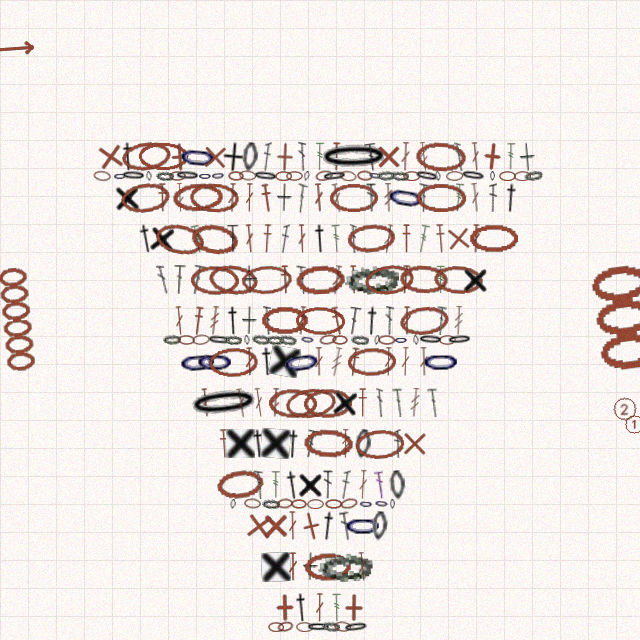chain: (187, 385, 261, 421), (318, 142, 390, 172), (153, 220, 206, 258), (284, 385, 337, 421), (189, 221, 241, 257), (119, 180, 172, 215), (344, 263, 400, 296), (207, 262, 259, 297), (363, 262, 415, 297), (120, 139, 172, 174), (215, 467, 266, 502), (398, 304, 450, 338), (318, 551, 373, 583), (346, 222, 397, 255), (354, 428, 406, 460), (241, 264, 292, 296), (433, 264, 484, 296), (172, 182, 223, 213), (189, 182, 240, 213), (415, 141, 466, 172), (303, 428, 353, 459), (295, 264, 345, 295), (399, 264, 449, 295), (384, 180, 428, 215), (303, 388, 353, 418), (208, 347, 258, 377), (295, 306, 345, 336), (190, 265, 240, 295), (268, 388, 317, 418), (347, 347, 396, 377), (280, 345, 323, 379), (329, 183, 379, 212), (416, 183, 466, 212), (138, 142, 188, 171), (304, 552, 352, 582), (469, 224, 518, 253), (261, 306, 309, 335), (177, 346, 219, 378), (177, 141, 219, 173), (343, 511, 383, 540), (195, 347, 235, 376), (421, 347, 461, 376), (354, 429, 372, 459), (241, 142, 259, 172), (371, 511, 388, 541), (389, 470, 406, 500), (414, 169, 440, 183), (460, 169, 486, 182), (343, 621, 369, 633), (207, 334, 232, 346), (253, 170, 278, 182), (322, 170, 347, 182), (418, 334, 443, 345), (447, 334, 472, 345), (121, 170, 146, 181), (175, 170, 200, 181), (306, 622, 331, 632), (524, 169, 543, 182), (340, 497, 358, 510), (319, 333, 337, 346), (315, 169, 333, 182), (278, 334, 297, 346), (277, 620, 294, 633), (93, 170, 111, 182), (339, 170, 357, 182), (322, 621, 340, 632), (163, 334, 181, 345), (192, 334, 210, 345), (252, 334, 270, 345), (377, 170, 395, 181), (334, 621, 351, 632), (244, 498, 261, 509), (239, 170, 256, 181), (262, 499, 280, 509), (224, 335, 242, 345), (266, 335, 284, 345), (351, 335, 369, 345), (156, 171, 174, 181), (391, 171, 409, 181), (277, 498, 293, 509), (357, 170, 373, 181), (296, 622, 313, 632), (307, 499, 324, 509), (325, 499, 342, 509), (178, 335, 195, 345), (378, 335, 395, 345), (439, 335, 456, 345), (169, 171, 186, 181), (275, 171, 292, 181), (286, 171, 303, 181), (403, 171, 420, 181), (446, 171, 463, 181), (499, 171, 516, 181), (514, 171, 531, 181), (374, 498, 389, 509), (300, 334, 315, 345), (368, 170, 383, 181), (268, 622, 284, 632), (291, 499, 307, 509), (332, 335, 348, 345), (228, 171, 244, 181), (211, 170, 225, 181), (359, 499, 373, 509), (394, 335, 408, 345), (113, 171, 127, 181), (198, 171, 212, 181), (303, 171, 310, 181), (230, 499, 236, 509), (244, 335, 250, 345), (374, 335, 380, 345), (413, 335, 419, 345), (146, 171, 152, 181), (435, 171, 441, 181), (390, 499, 395, 509), (490, 171, 495, 181)
double: (302, 429, 320, 459), (189, 265, 206, 295), (346, 306, 362, 336), (364, 142, 379, 172), (339, 511, 353, 541), (234, 388, 248, 418), (330, 265, 344, 295), (330, 183, 344, 213), (382, 224, 395, 254), (295, 183, 308, 213), (434, 306, 447, 335), (156, 265, 169, 294), (173, 265, 186, 294), (469, 183, 482, 212), (253, 470, 265, 499), (374, 470, 386, 499), (253, 388, 265, 417), (392, 388, 404, 417), (427, 388, 439, 417), (296, 306, 308, 335), (296, 265, 308, 294), (227, 224, 239, 253), (313, 183, 325, 212), (357, 552, 368, 581), (340, 470, 351, 499), (200, 388, 211, 417), (174, 306, 185, 335), (348, 265, 359, 294), (244, 224, 255, 253), (227, 183, 238, 212), (366, 183, 377, 212), (418, 183, 429, 212), (400, 142, 411, 171), (470, 142, 481, 171), (288, 552, 298, 581), (323, 470, 333, 499), (358, 470, 368, 499), (314, 347, 324, 376), (419, 347, 429, 376), (384, 306, 394, 335), (402, 306, 412, 335), (280, 224, 290, 253), (297, 224, 307, 253), (471, 224, 481, 253), (262, 142, 272, 171), (454, 142, 464, 171), (315, 593, 324, 622), (288, 511, 297, 540), (245, 347, 254, 376), (384, 347, 393, 376), (401, 347, 410, 376), (245, 183, 254, 212), (394, 429, 402, 458), (376, 388, 384, 417), (263, 306, 271, 335), (489, 183, 497, 212), (298, 142, 306, 171), (350, 224, 357, 253)
enseble_chain: (584, 261, 640, 379), (0, 266, 38, 374)
half_double: (136, 223, 156, 254), (318, 511, 338, 541), (283, 470, 302, 500), (284, 429, 302, 459), (363, 306, 381, 336), (502, 183, 520, 213), (293, 593, 310, 622), (250, 429, 267, 458), (329, 306, 345, 336), (259, 347, 275, 376), (225, 306, 241, 335), (312, 224, 328, 253), (120, 142, 136, 171), (259, 183, 274, 213), (347, 347, 361, 377), (191, 306, 205, 336), (399, 265, 412, 294), (434, 224, 447, 253), (218, 429, 230, 458), (279, 265, 291, 294), (261, 224, 273, 253), (357, 388, 368, 417), (401, 224, 412, 253), (157, 183, 168, 212), (331, 142, 342, 171)
noise: (611, 395, 638, 422), (0, 40, 36, 57), (623, 413, 640, 436)
single: (294, 509, 328, 543), (268, 345, 301, 378), (94, 140, 127, 173), (243, 510, 275, 542), (260, 428, 291, 459), (443, 223, 474, 254), (477, 141, 508, 172), (261, 552, 291, 582), (165, 142, 195, 172), (200, 142, 230, 172), (270, 142, 300, 172), (331, 387, 360, 418), (148, 223, 177, 254), (339, 593, 368, 622), (261, 511, 290, 540), (226, 429, 255, 458), (400, 429, 429, 458), (374, 142, 403, 171), (271, 593, 299, 622), (297, 470, 324, 499), (462, 265, 489, 294), (114, 183, 141, 212), (221, 142, 245, 172), (519, 142, 536, 172), (242, 265, 258, 294), (303, 552, 318, 581), (242, 306, 257, 335), (277, 183, 292, 212)
treble: (329, 347, 344, 377), (190, 224, 205, 254), (416, 224, 431, 254), (208, 306, 221, 335), (409, 388, 421, 417), (453, 183, 465, 212), (418, 142, 430, 171), (270, 388, 281, 417), (453, 306, 464, 335), (331, 224, 342, 253), (383, 183, 394, 212), (332, 593, 342, 622), (271, 470, 281, 499), (436, 265, 446, 294), (175, 183, 185, 212), (315, 142, 325, 171), (506, 142, 516, 171), (341, 429, 350, 458)
